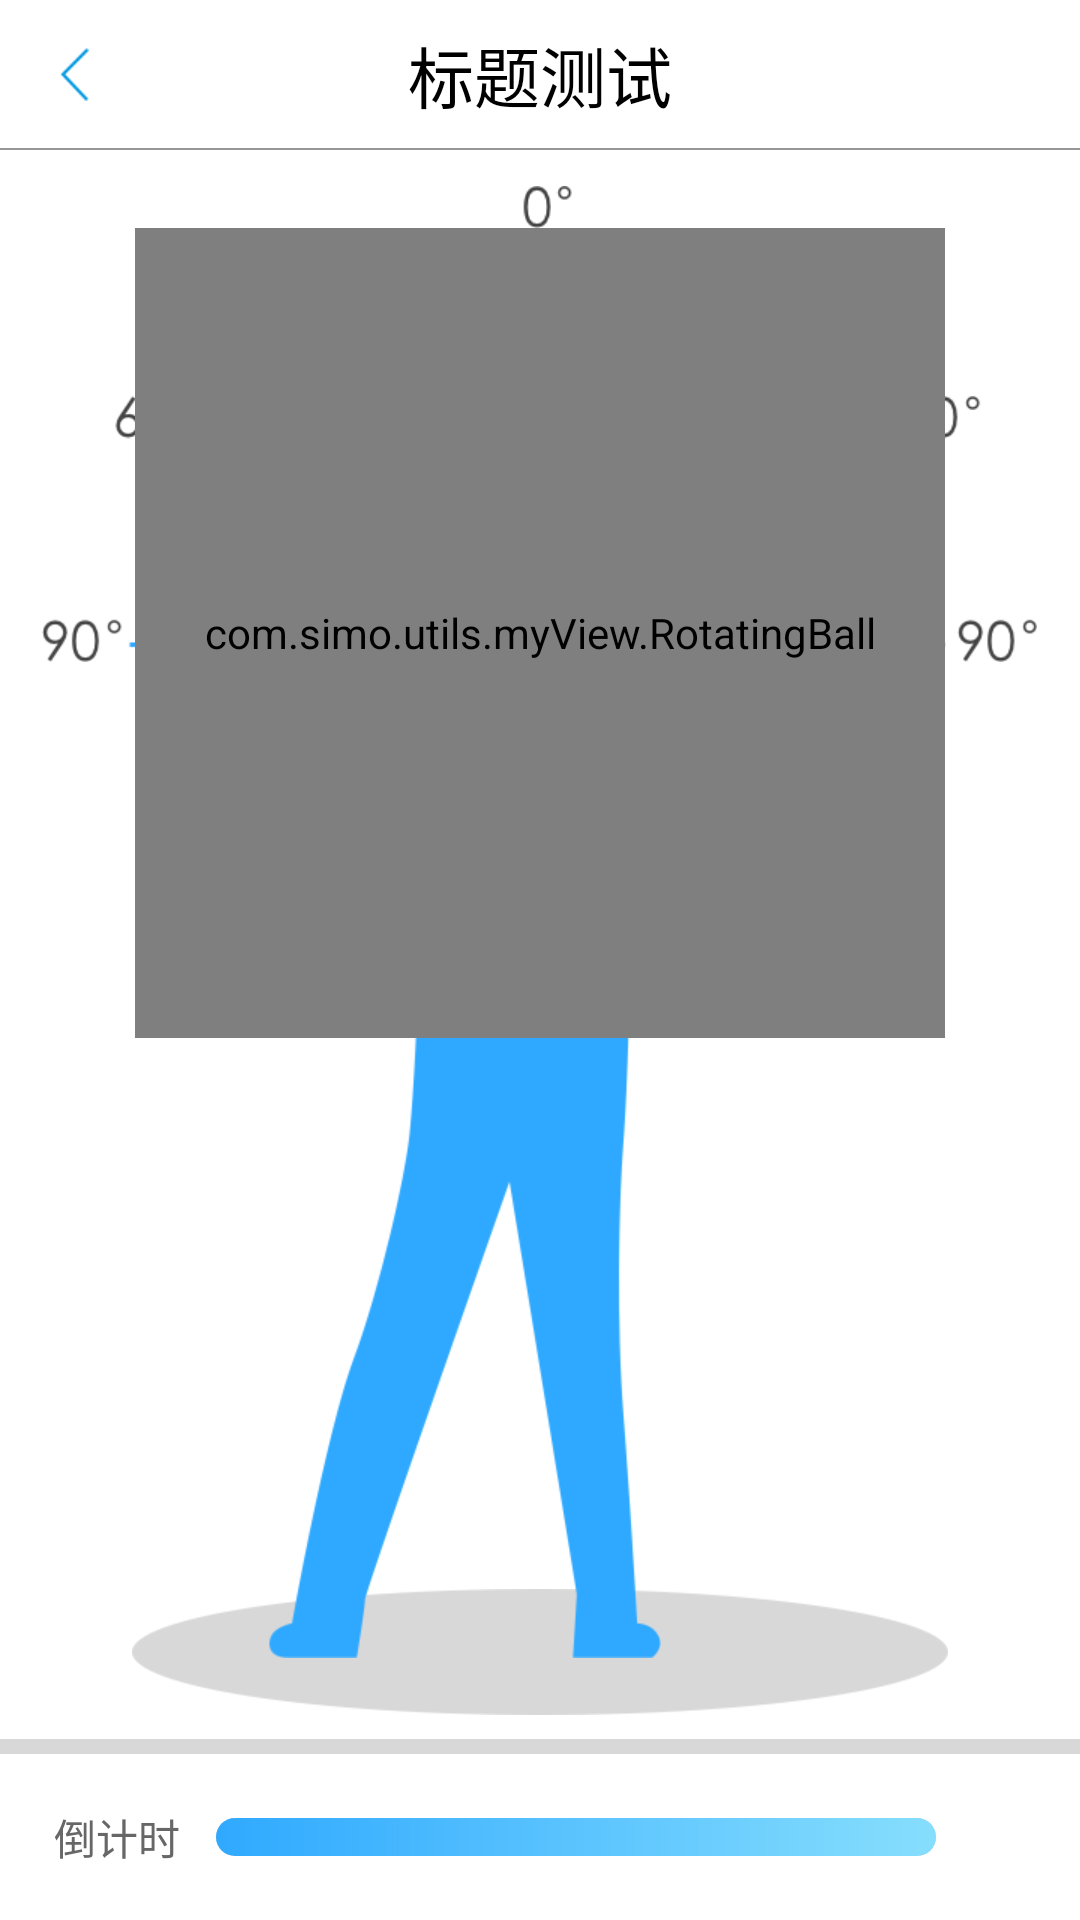

Locate icon controls on the screen. Image size 1080 x 1920, boxes as [left=x1, top=y1, right=x2, bottom=y2].
back: [left=60, top=48, right=89, bottom=101]
